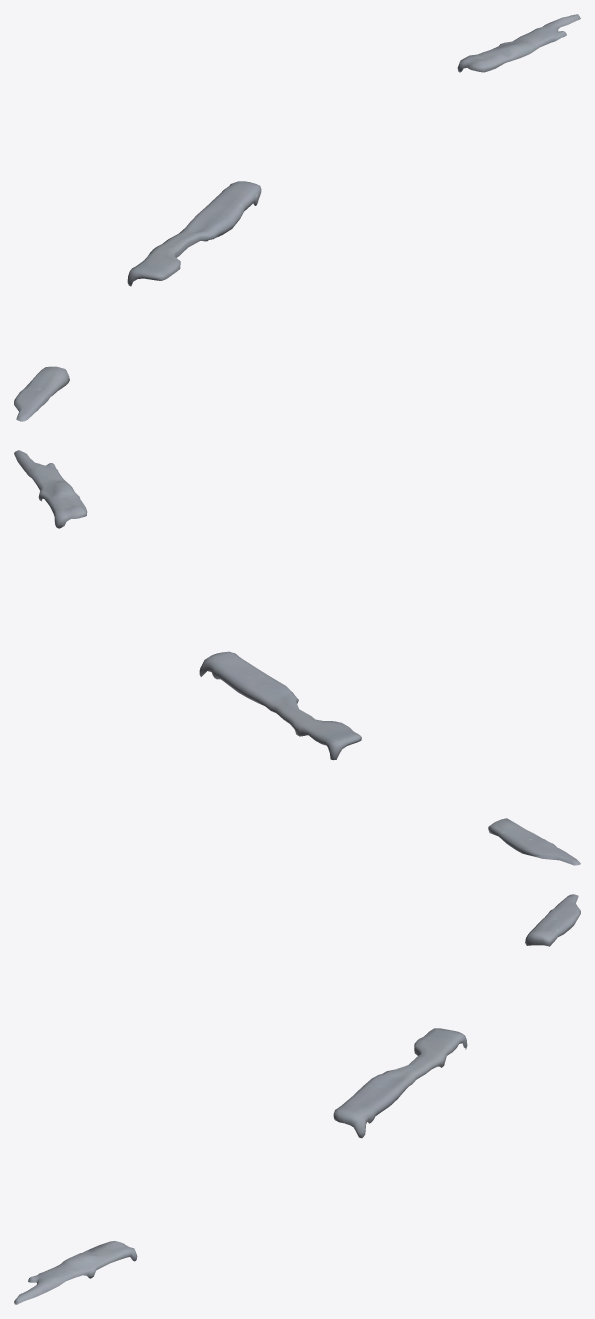
The model's file is pref_sm_beach_winter_snow13_lv3.fbx.
The picture shows the model from 3 angles, top to bottom: view 1: azimuth 90°, elevation 25°; view 2: azimuth 150°, elevation 25°; view 3: azimuth 270°, elevation 25°; orthographic projection.
Visible parts, largest first — view 1: pref_sm_beach_winter_snow13_lv3; view 2: pref_sm_beach_winter_snow13_lv3; view 3: pref_sm_beach_winter_snow13_lv3.
Part boxes in pixels (<box>): pref_sm_beach_winter_snow13_lv3: <box>14,14,580,421</box>; pref_sm_beach_winter_snow13_lv3: <box>14,450,580,865</box>; pref_sm_beach_winter_snow13_lv3: <box>14,894,580,1304</box>.
Size of the model in its own units: 25.48 by 0.5999 by 14.98.
